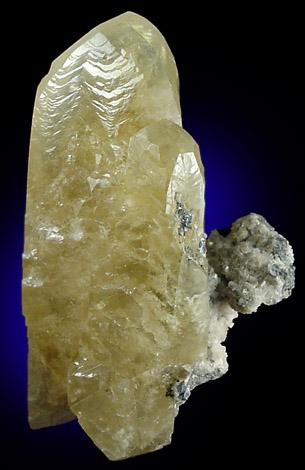calcite: (22, 13, 209, 460)
